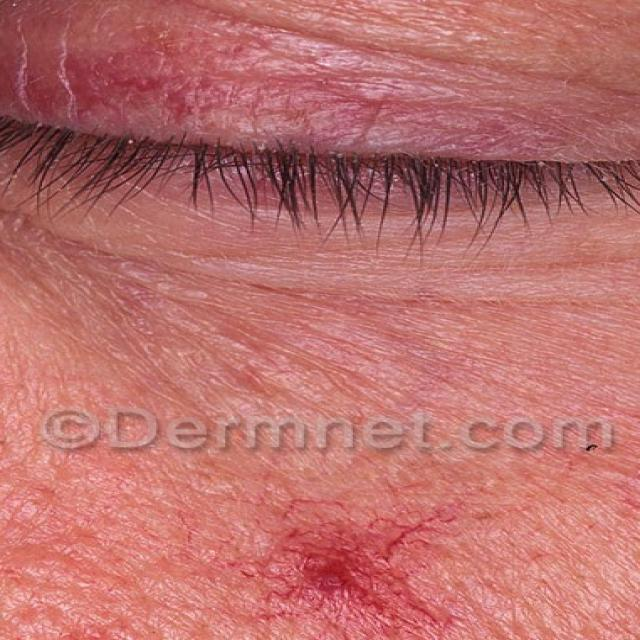Vascular Tumors: (261, 506, 446, 640)
